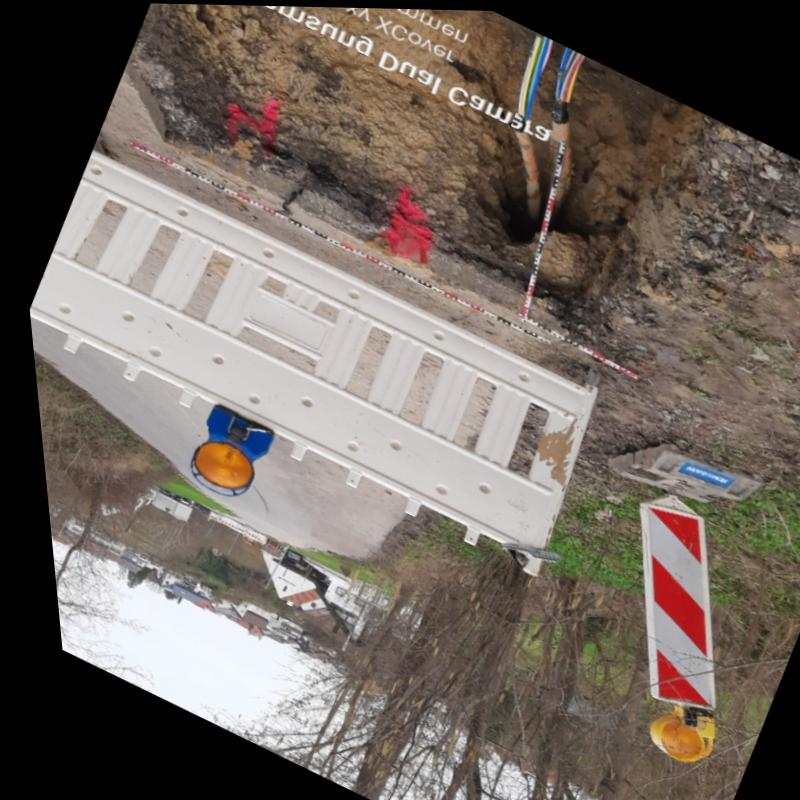Orang-Speednetrohrchen: (508, 115, 539, 206), (550, 96, 570, 176)
